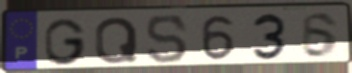3: (251, 11, 288, 62)
6: (299, 12, 341, 59), (199, 14, 238, 62)
G: (42, 17, 88, 67)
Q: (92, 15, 140, 66)
S: (144, 13, 191, 65)
